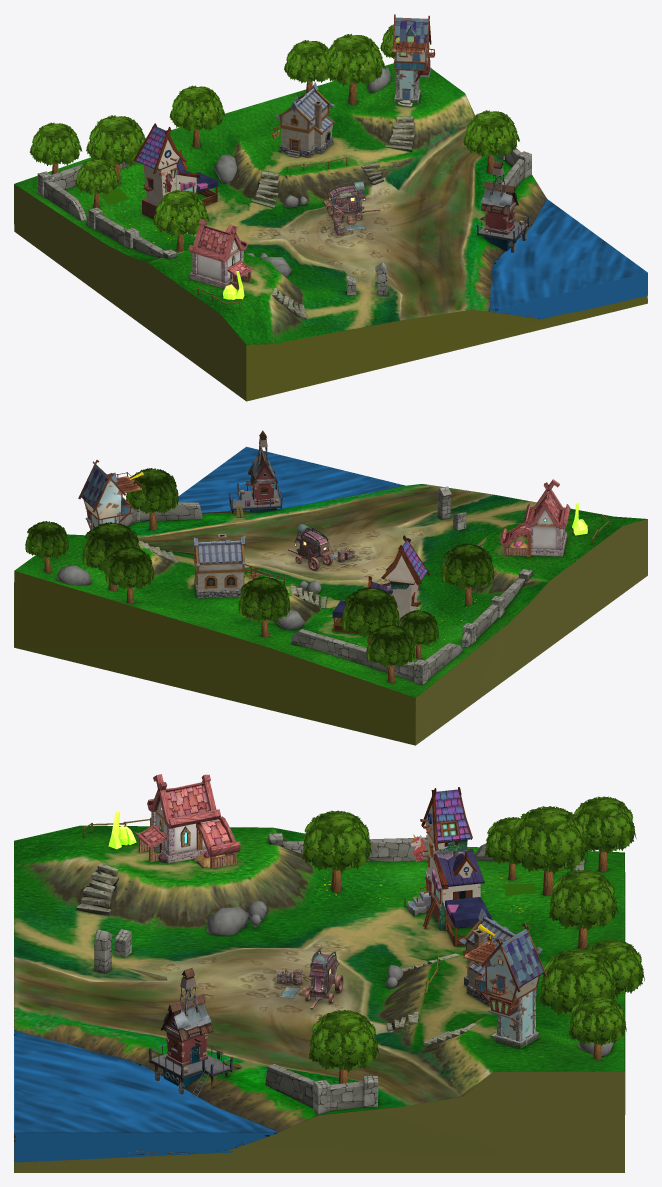
File: magic-village-low-poly-location.fbx
The picture shows the model from 3 angles, top to bottom: view 1: azimuth 30°, elevation 25°; view 2: azimuth 150°, elevation 25°; view 3: azimuth 270°, elevation 25°; orthographic projection. The views are drawn at different scales.
Parts seen in each view (by area): view 1: earth_earth_0, foliage_foliage_0, water_water_0, earth_props_earth_props_0, shelter_for_magical_creatures_shelter_for_magical_creatures_, dragon_house_dragon_house_0, blacksmith's_house_blacksmith's_house_0, travell_house_travell_house_0, hermits_house_hermits_house_0, potion_master_potion_master_0, tree_trunk_tree_trunk_0; view 2: earth_earth_0, foliage_foliage_0, earth_props_earth_props_0, water_water_0, dragon_house_dragon_house_0, blacksmith's_house_blacksmith's_house_0, travell_house_travell_house_0, shelter_for_magical_creatures_shelter_for_magical_creatures_, hermits_house_hermits_house_0, potion_master_potion_master_0, tree_trunk_tree_trunk_0; view 3: earth_earth_0, foliage_foliage_0, water_water_0, earth_props_earth_props_0, shelter_for_magical_creatures_shelter_for_magical_creatures_, dragon_house_dragon_house_0, travell_house_travell_house_0, hermits_house_hermits_house_0, blacksmith's_house_blacksmith's_house_0, potion_master_potion_master_0, tree_trunk_tree_trunk_0, dragon_house_props_dragon_house_props_0 (+1 smaller).
Part boxes in pixels (<box>): earth_earth_0: <box>14,63,647,401</box>; foliage_foliage_0: <box>29,24,519,236</box>; water_water_0: <box>488,199,647,319</box>; earth_props_earth_props_0: <box>37,68,531,319</box>; shelter_for_magical_creatures_shelter_for_magical_creatures_: <box>133,123,218,218</box>; dragon_house_dragon_house_0: <box>188,219,253,288</box>; blacksmith's_house_blacksmith's_house_0: <box>272,82,334,157</box>; travell_house_travell_house_0: <box>392,14,435,106</box>; hermits_house_hermits_house_0: <box>476,160,528,252</box>; potion_master_potion_master_0: <box>322,181,379,222</box>; tree_trunk_tree_trunk_0: <box>51,49,494,251</box>; earth_earth_0: <box>14,484,647,745</box>; foliage_foliage_0: <box>25,468,494,667</box>; earth_props_earth_props_0: <box>56,486,609,684</box>; water_water_0: <box>178,446,404,512</box>; dragon_house_dragon_house_0: <box>500,479,570,556</box>; blacksmith's_house_blacksmith's_house_0: <box>192,534,259,598</box>; travell_house_travell_house_0: <box>78,460,143,529</box>; shelter_for_magical_creatures_shelter_for_magical_creatures_: <box>332,535,430,633</box>; hermits_house_hermits_house_0: <box>229,430,282,513</box>; potion_master_potion_master_0: <box>288,524,333,570</box>; tree_trunk_tree_trunk_0: <box>44,511,472,683</box>; earth_earth_0: <box>14,825,625,1172</box>; foliage_foliage_0: <box>302,796,644,1072</box>; water_water_0: <box>14,1029,278,1162</box>; earth_props_earth_props_0: <box>76,817,612,1114</box>; shelter_for_magical_creatures_shelter_for_magical_creatures_: <box>404,787,491,946</box>; dragon_house_dragon_house_0: <box>135,774,240,868</box>; travell_house_travell_house_0: <box>462,923,546,1049</box>; hermits_house_hermits_house_0: <box>149,967,233,1094</box>; blacksmith's_house_blacksmith's_house_0: <box>459,908,542,1006</box>; potion_master_potion_master_0: <box>305,950,343,1009</box>; tree_trunk_tree_trunk_0: <box>331,851,615,1083</box>; dragon_house_props_dragon_house_props_0: <box>108,810,225,868</box>.
Bounding box in the file's own units: 4232 × 1623 × 4398.
